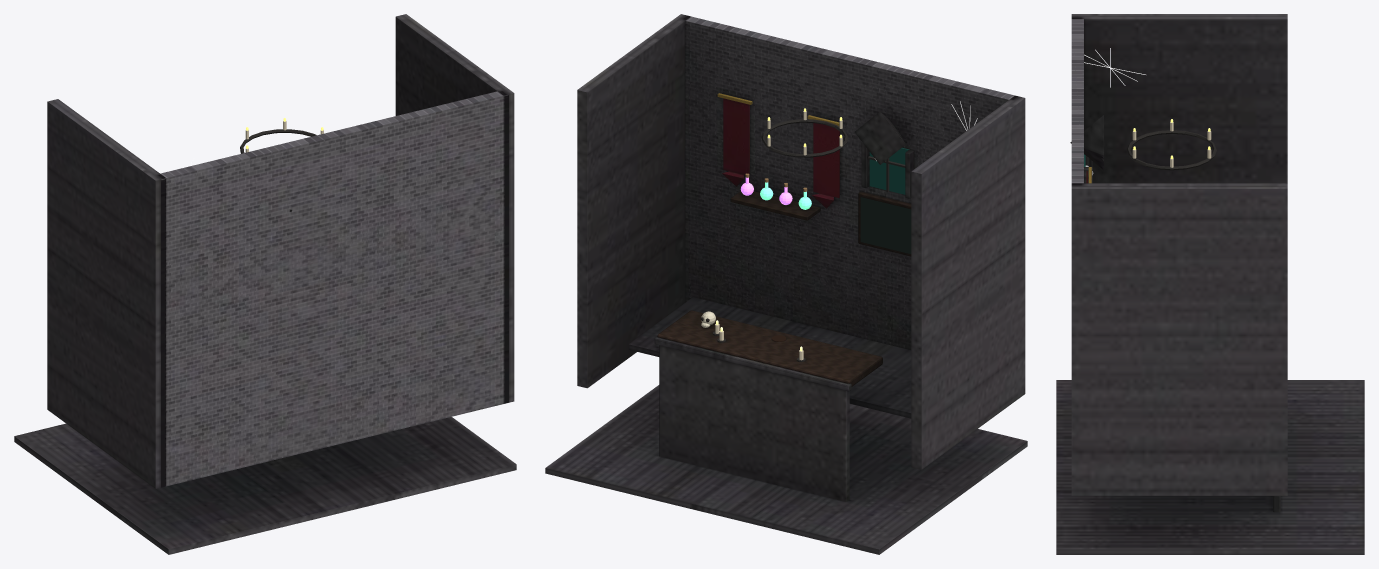
File: loc_castle.glb
3 views of the same model, side by side, from view 1: azimuth 30°, elevation 25°; view 2: azimuth 150°, elevation 25°; view 3: azimuth 270°, elevation 25° (orthographic). The views are drawn at different scales.
Parts seen in each view (by area): view 1: M_stone, M_stone_dark; view 2: M_stone_dark, M_stone, M_oak, M_banner, CHALKBOARD, M_night_green, M_hoop; view 3: M_stone_dark, M_stone, M_hoop.
Boxes of the visible parts, <box> form: M_stone: <box>160,91,508,487</box>; M_stone_dark: <box>14,14,516,554</box>; M_stone_dark: <box>545,14,1027,554</box>; M_stone: <box>685,16,1014,349</box>; M_oak: <box>657,191,911,386</box>; M_banner: <box>722,98,839,208</box>; CHALKBOARD: <box>860,197,911,253</box>; M_night_green: <box>869,147,909,194</box>; M_hoop: <box>713,119,905,361</box>; M_stone_dark: <box>1056,14,1364,554</box>; M_stone: <box>1071,19,1083,183</box>; M_hoop: <box>1086,130,1216,170</box>.
Size of the model in its own units: 2.68 by 2.64 by 2.
Materials: 19 (5 with a texture image).
